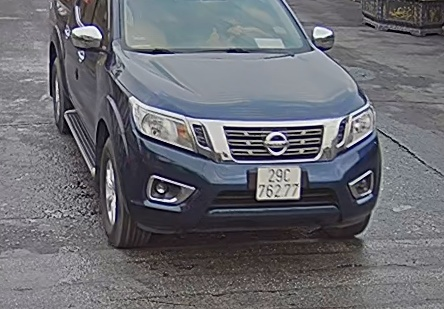vehicle plate: (254, 163, 305, 201)
